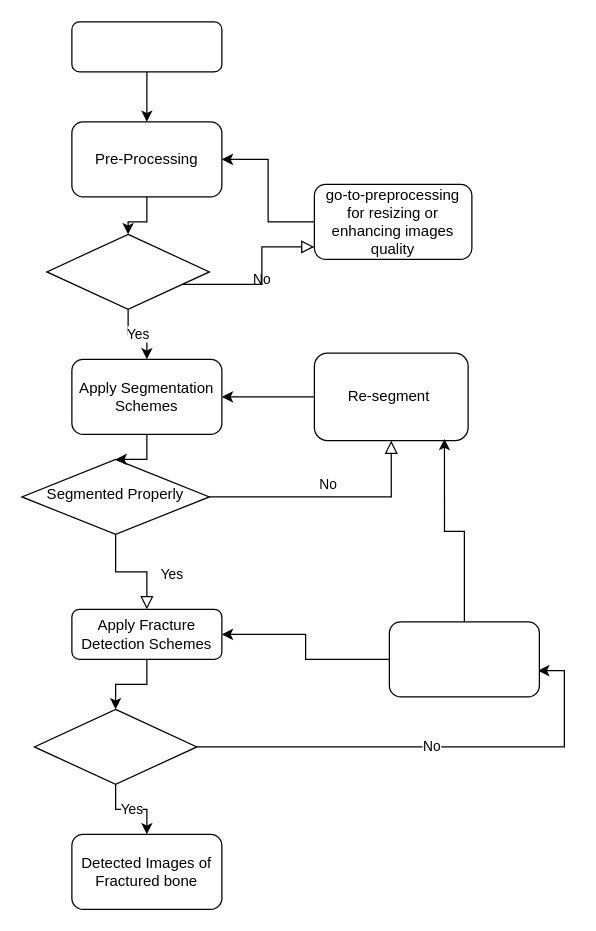
Image size: 596x931. Some labels were removed from this diagram. Here are the shapes that lost their labels. From the top down, the centre of each, then its label:
At (x=146, y=46): "Data Sets of X-Ray Images".
At (x=127, y=271): "valid x-ray image".
At (x=463, y=659): "Check another best suited algorithm".
At (x=115, y=746): "True Positivity".
